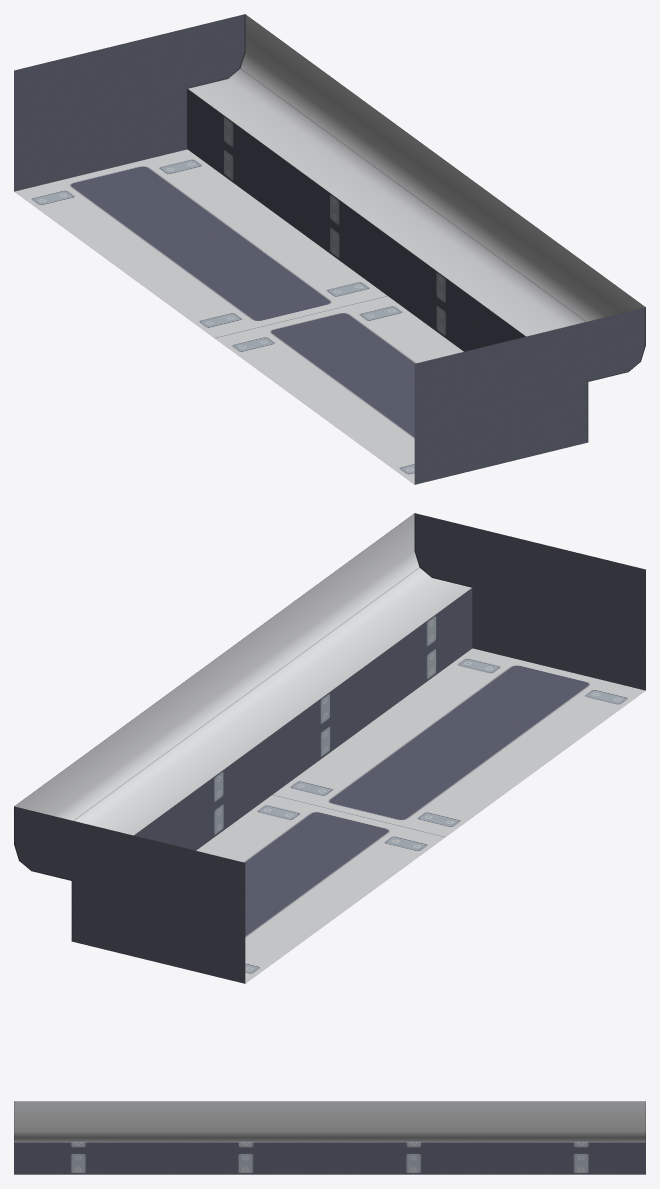
File: Floor_Border_Line_01_B.FBX
3 views of the same model, one above another, from view 1: azimuth 30°, elevation 25°; view 2: azimuth 150°, elevation 25°; view 3: azimuth 270°, elevation 25° (orthographic). The views are drawn at different scales.
Visible parts, largest first — view 1: Floor_Border_Line_01_B; view 2: Floor_Border_Line_01_B; view 3: Floor_Border_Line_01_B.
Boxes of the visible parts, box(x1,y1,x2,y2) form: Floor_Border_Line_01_B: box(14, 14, 645, 484); Floor_Border_Line_01_B: box(14, 513, 645, 983); Floor_Border_Line_01_B: box(14, 1101, 645, 1174).
Bounding box in the file's own units: 2 × 1 × 6.
